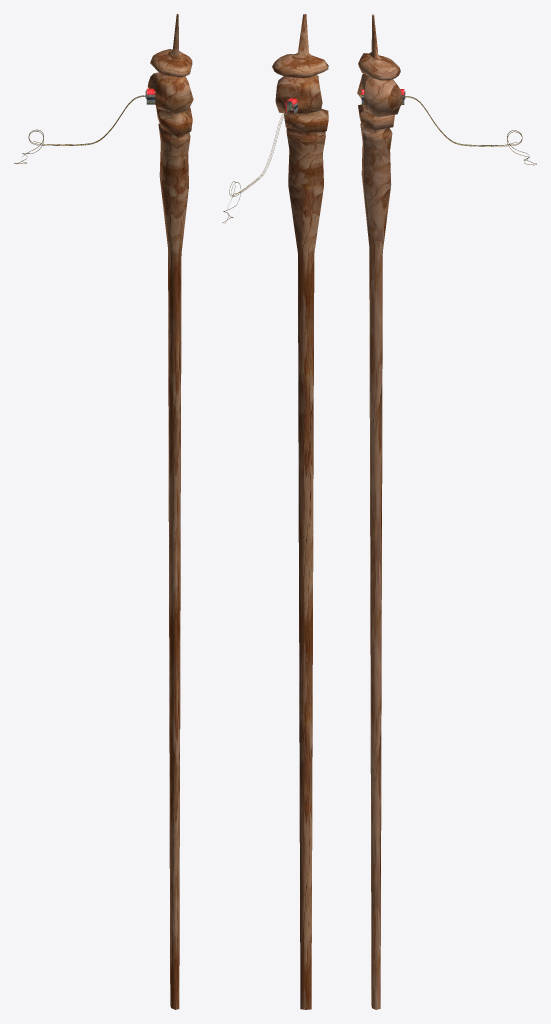
Rendered from Bullet Station 36.fbx.
3 renders of one model, left to right at view 1: azimuth 90°, elevation 25°; view 2: azimuth 150°, elevation 25°; view 3: azimuth 270°, elevation 25°, orthographic.
Parts seen in each view (by area): view 1: STG08_ON_22; view 2: STG08_ON_22; view 3: STG08_ON_22.
Boxes of the visible parts, left/top/right/bottom form: STG08_ON_22: left=14, top=14, right=193, bottom=1009; STG08_ON_22: left=222, top=14, right=328, bottom=1009; STG08_ON_22: left=357, top=14, right=536, bottom=1009.
Size of the model in its own units: 137150 by 2584873 by 423515.
